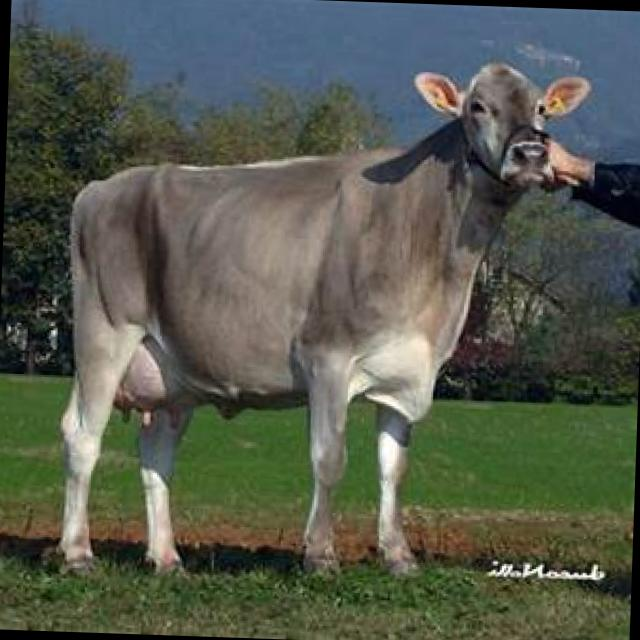animal: (51, 44, 594, 592)
